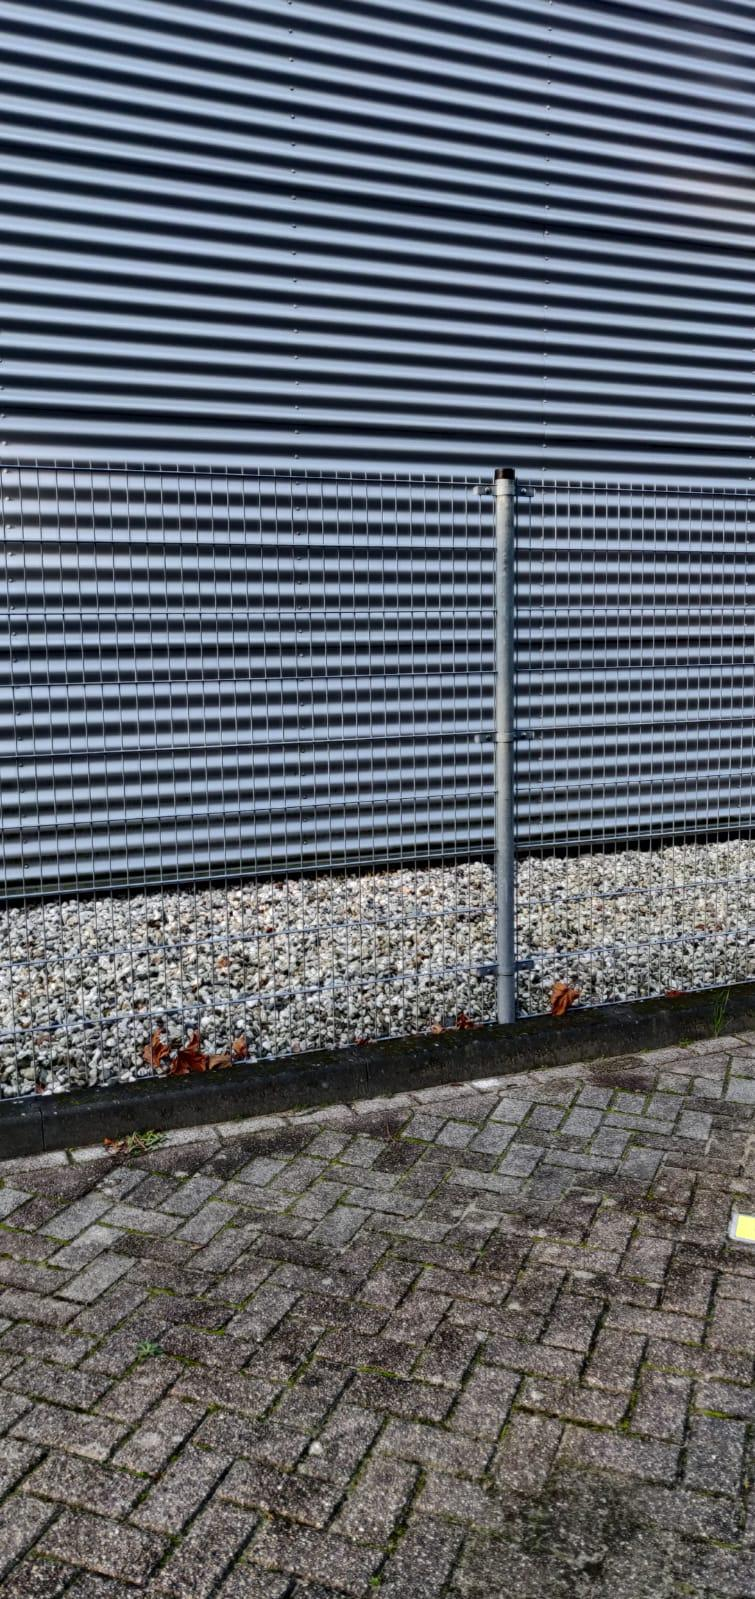obstacle: (37, 517, 755, 1202)
